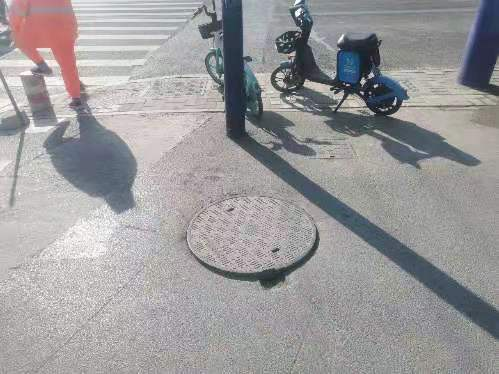uncovered: (187, 195, 321, 283)
